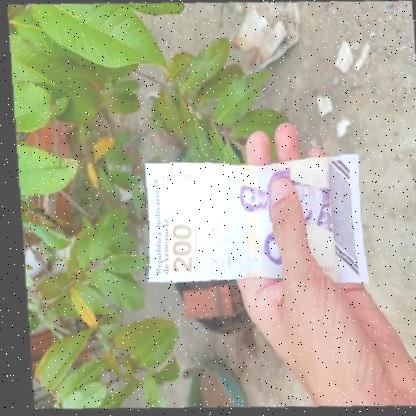two_hundred-front-vef: (135, 147, 370, 291)
